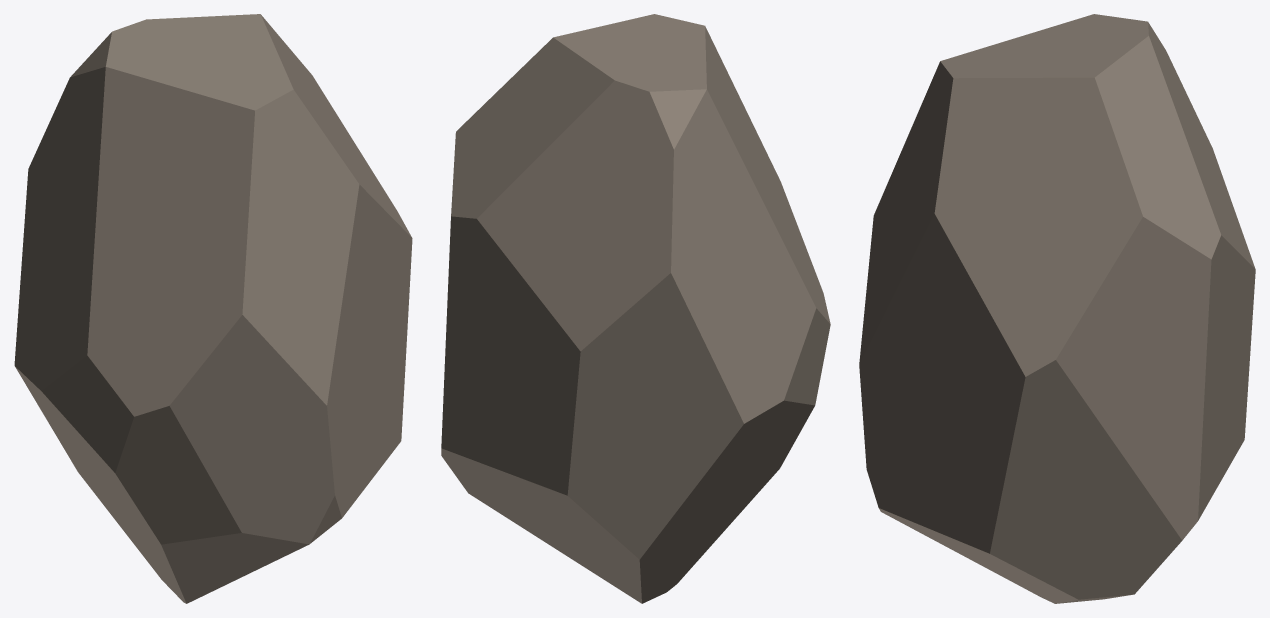
File: free3d-stone.glb
3 views of the same model, side by side, from view 1: azimuth 30°, elevation 25°; view 2: azimuth 150°, elevation 25°; view 3: azimuth 270°, elevation 25° (orthographic). The views are drawn at different scales.
Parts seen in each view (by area): view 1: Stone1.1; view 2: Stone1.1; view 3: Stone1.1.
Boxes of the visible parts, left/top/right/bottom form: Stone1.1: left=14, top=14, right=412, bottom=603; Stone1.1: left=441, top=14, right=830, bottom=603; Stone1.1: left=859, top=14, right=1255, bottom=603.
Size of the model in its own units: 0.3798 by 0.58 by 0.3624.
